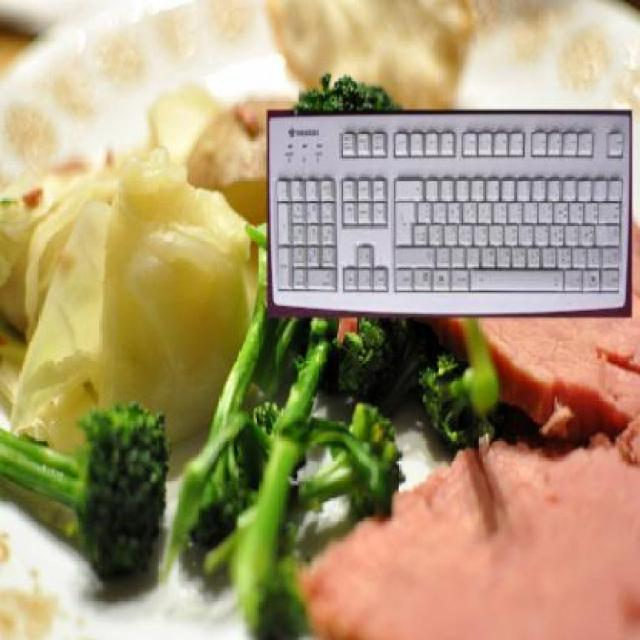keyboard: (270, 99, 628, 316)
